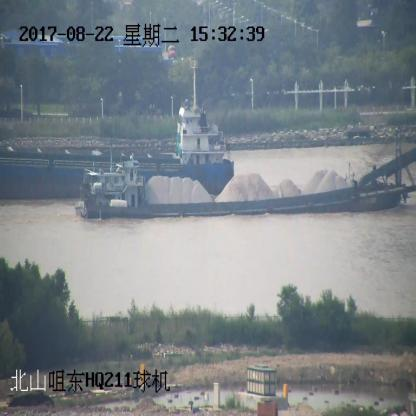Bulk Carrier: (0, 59, 237, 197)
